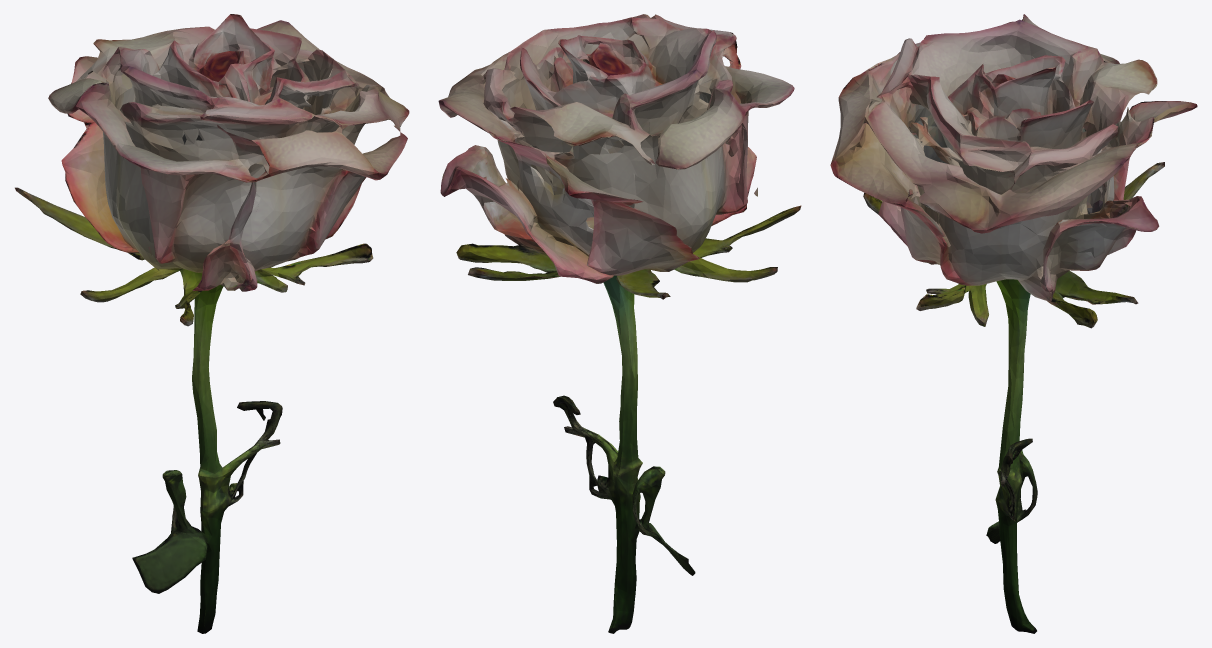
3 views of the same model, side by side, from view 1: azimuth 30°, elevation 25°; view 2: azimuth 150°, elevation 25°; view 3: azimuth 270°, elevation 25° (orthographic).
Visible parts, largest first — view 1: world; view 2: world; view 3: world.
Boxes of the visible parts, bbox=[...] form: world: bbox=[15, 14, 409, 633]; world: bbox=[438, 14, 801, 633]; world: bbox=[830, 14, 1197, 633].
Bounding box in the file's own units: 0.5384 × 0.9586 × 0.5439.
1 material, 1 textured.
